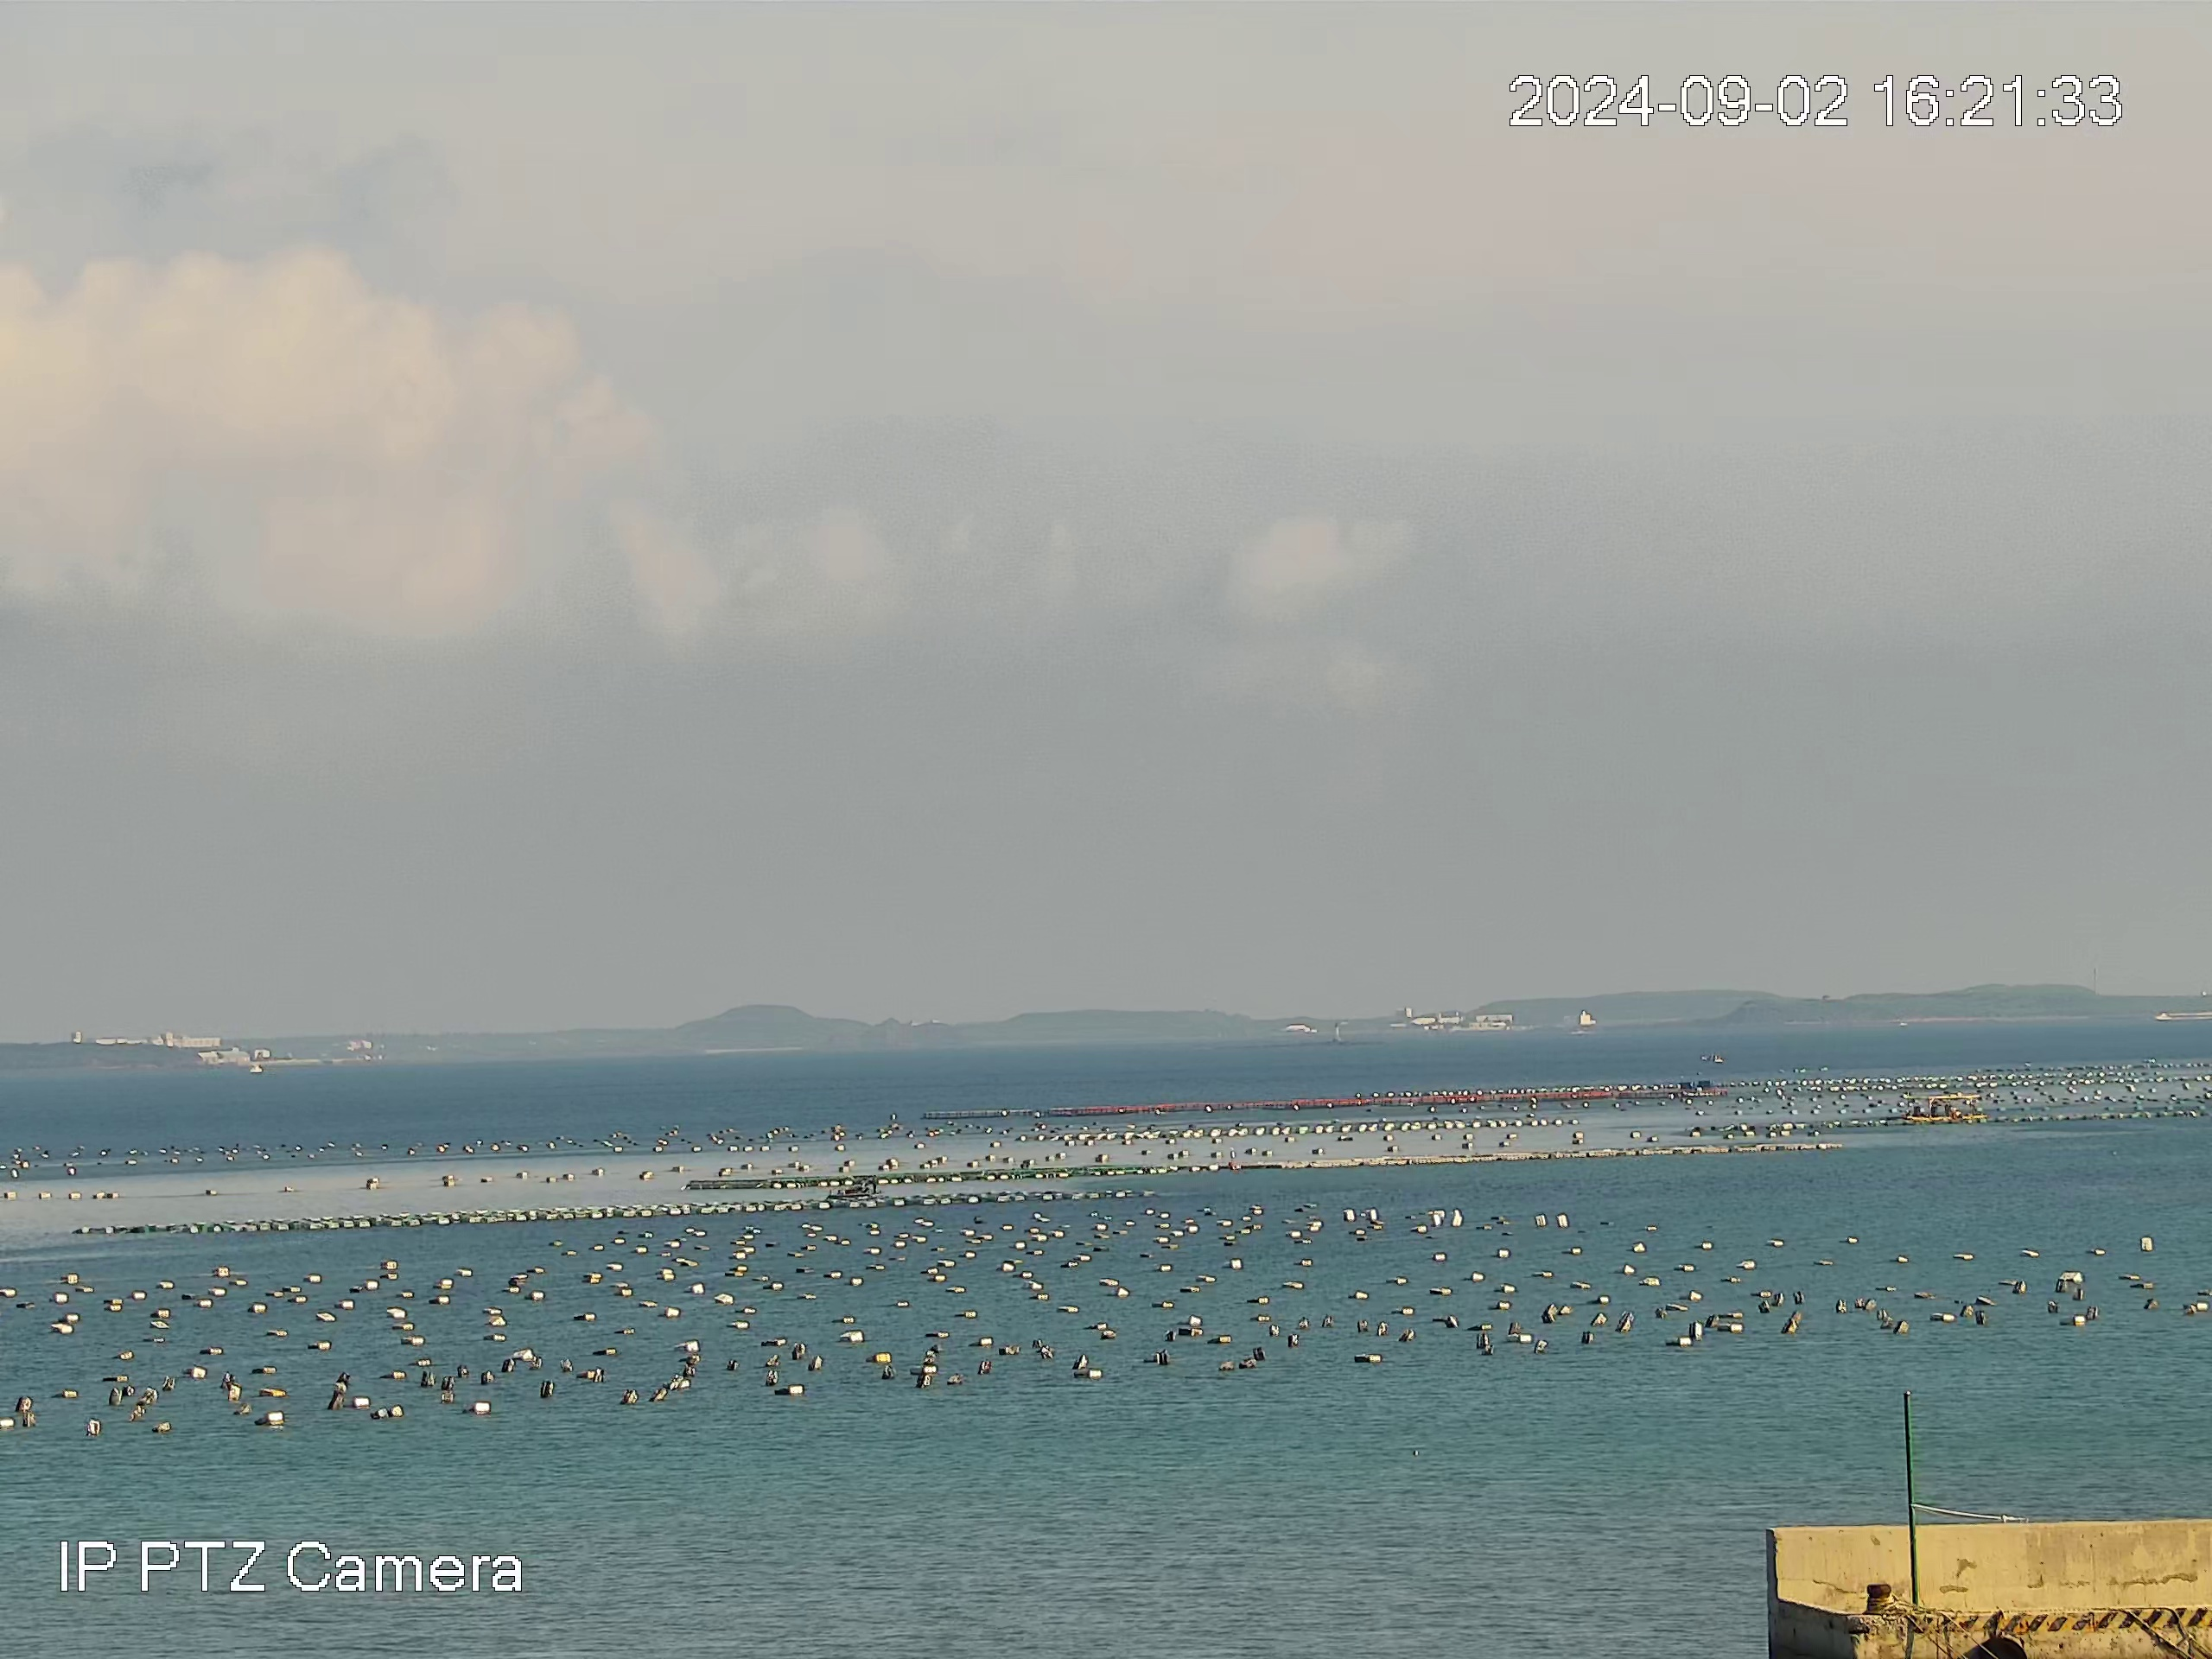boat: (1902, 1093, 1989, 1124)
